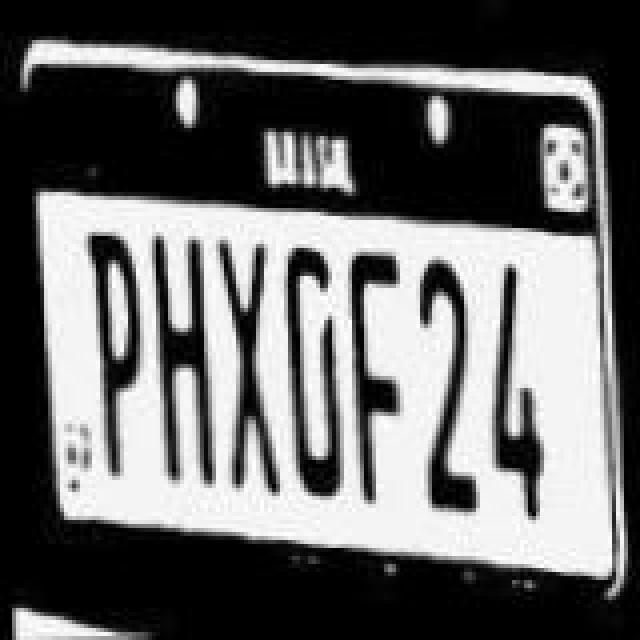2: (414, 256, 486, 520)
4: (486, 272, 558, 532)
D: (278, 234, 354, 494)
F: (342, 260, 422, 516)
H: (152, 228, 224, 492)
P: (72, 228, 144, 480)
X: (216, 234, 288, 502)
